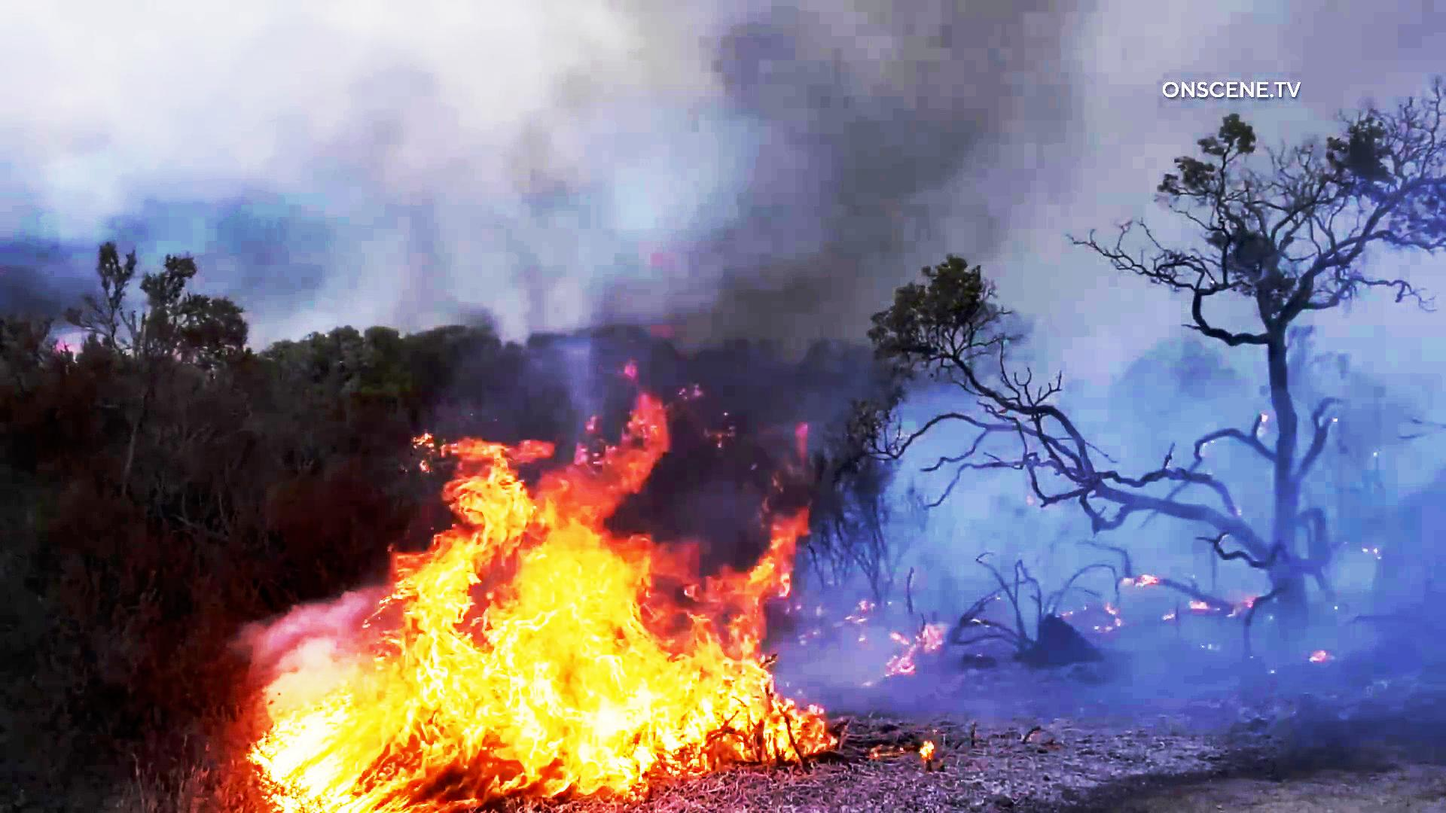fire: (262, 443, 817, 780)
